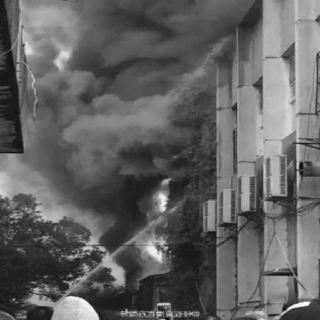Fire: (136, 172, 176, 270)
Smoke: (28, 7, 212, 180)
